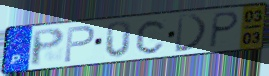0: (104, 20, 133, 60)
C: (134, 18, 169, 56)
D: (174, 13, 210, 54)
P: (30, 26, 67, 67), (207, 10, 242, 50), (63, 24, 97, 64)
